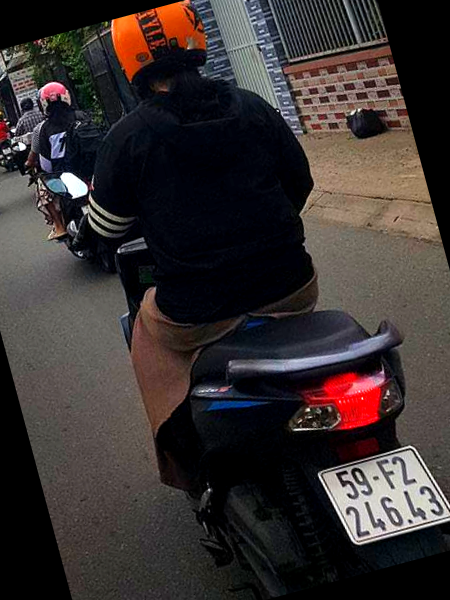number: (318, 446, 450, 548)
